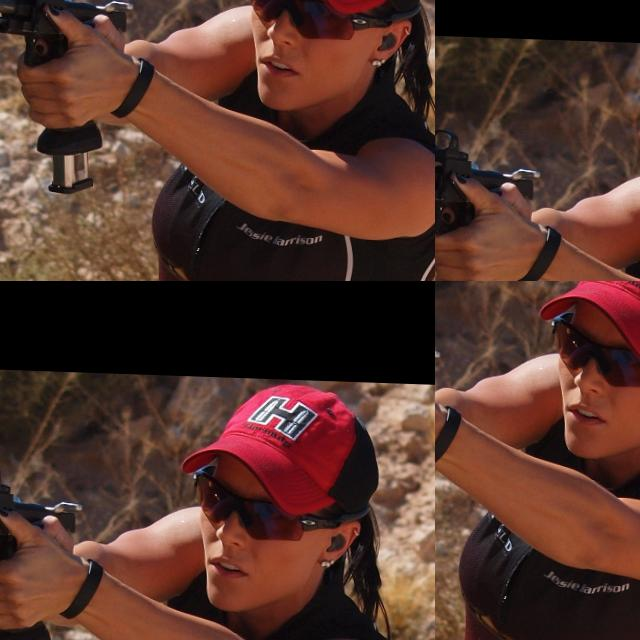handgun: (435, 101, 640, 281), (213, 0, 435, 70), (435, 302, 535, 423), (0, 525, 118, 603)
